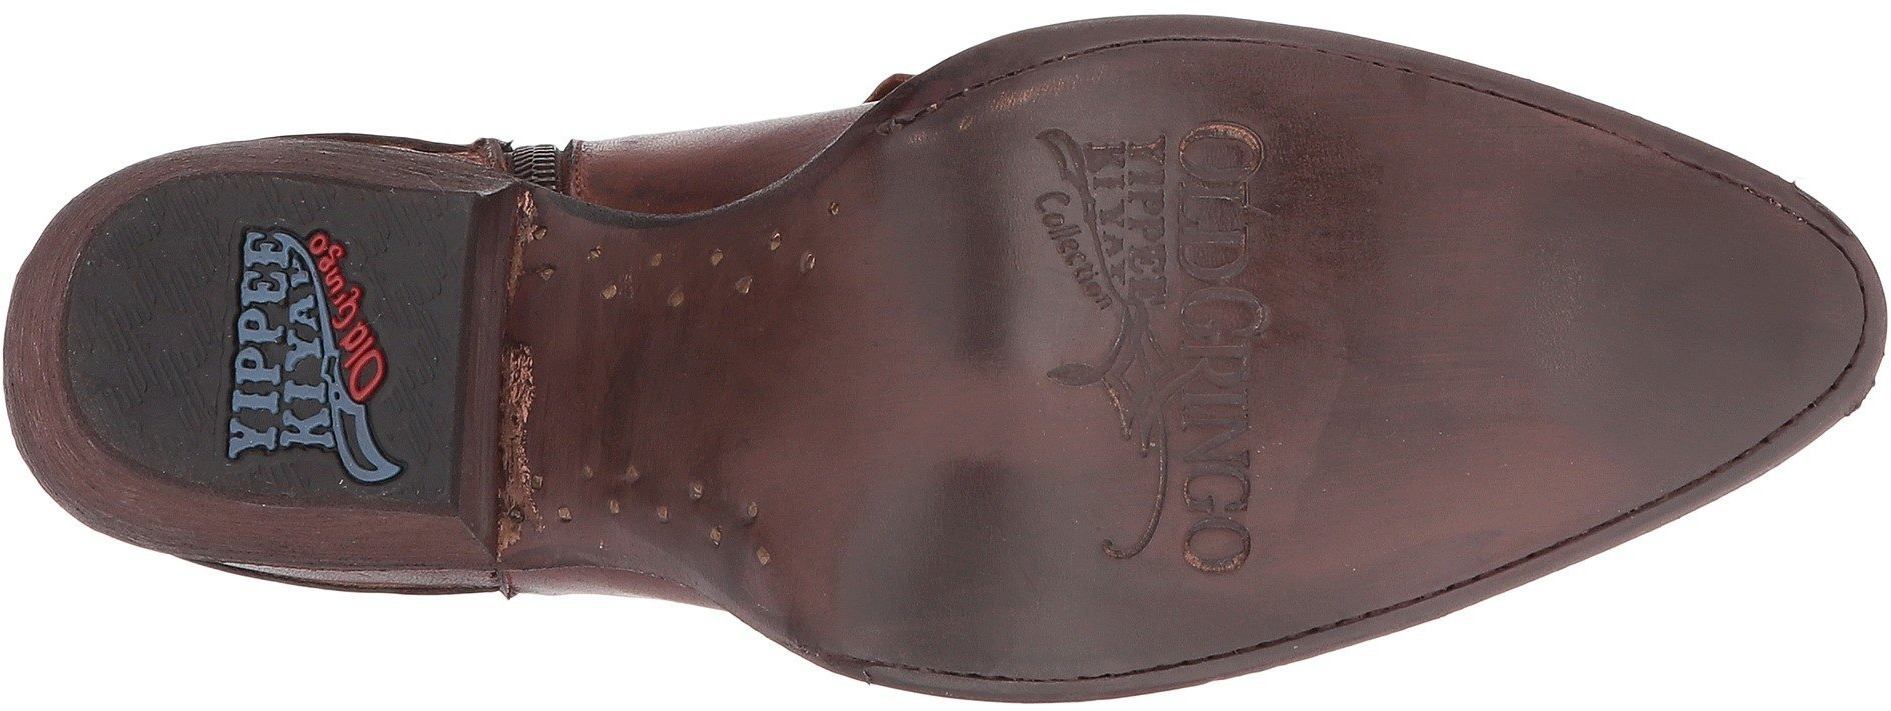other: (1536, 208, 1761, 434), (1281, 146, 1522, 347), (1302, 359, 1514, 566), (917, 411, 1093, 582), (80, 262, 230, 406), (77, 262, 223, 402), (891, 169, 1034, 312)
text: (1069, 127, 1228, 302), (1122, 324, 1248, 447), (233, 351, 359, 468), (232, 218, 352, 339), (1177, 459, 1276, 566)
